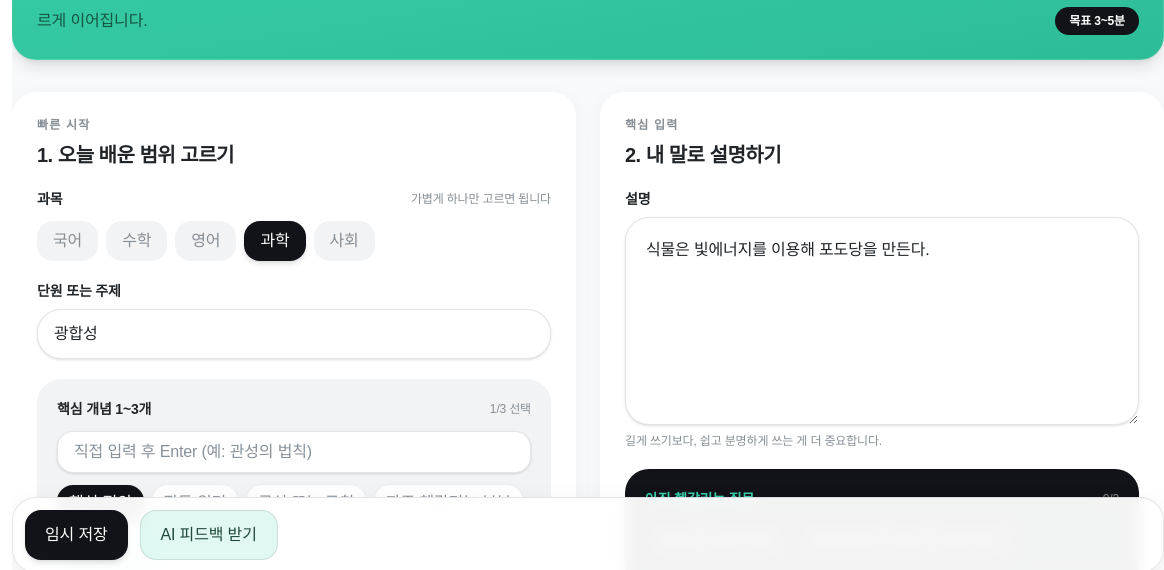
Scenario: review ui flows › saves the daily review draft through the API and refreshes the screen
Click the button "임시 저장" at (76, 535), box [25,510,128,560]
(page scrolled)
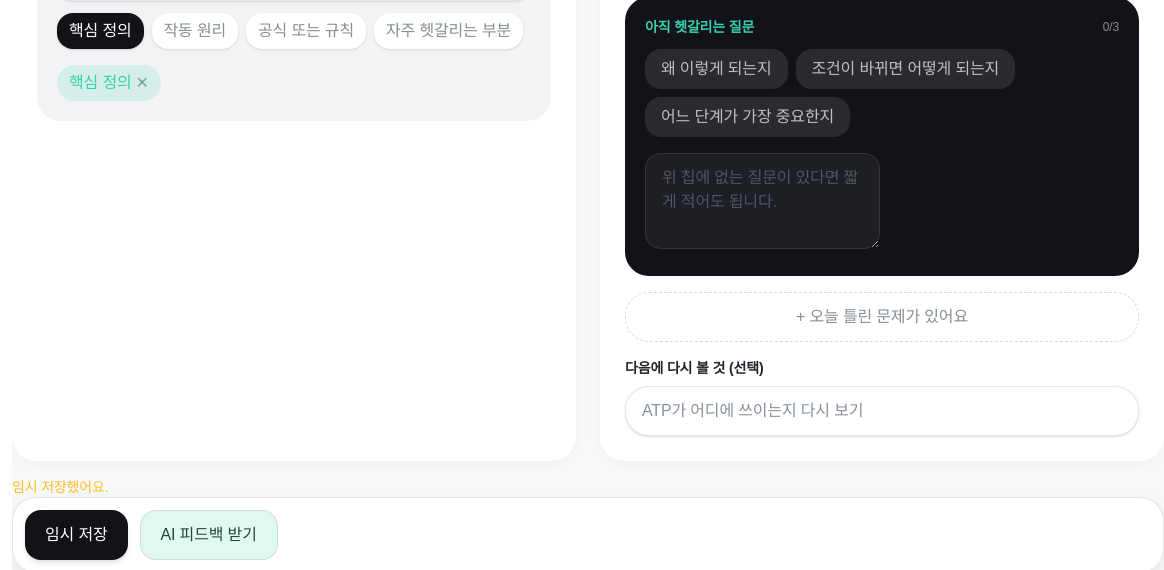
Check: the text "임시 저장했어요." is shown, box [12,479,108,495]
